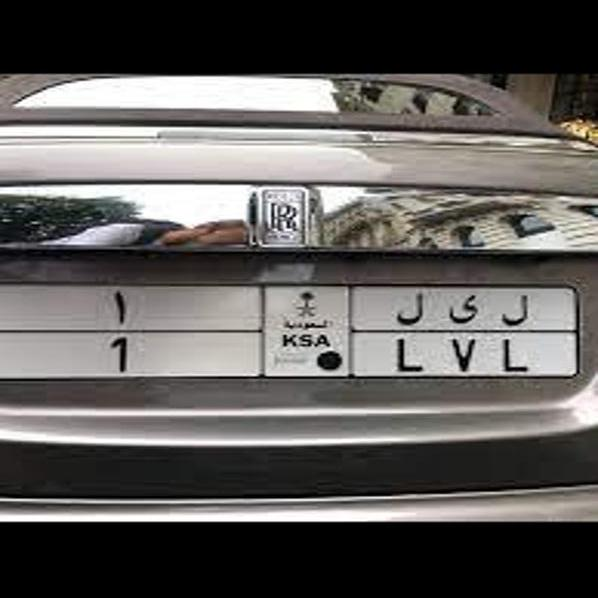numberplate: (63, 283, 551, 380)
